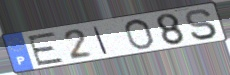2: (62, 28, 95, 61)
8: (155, 13, 186, 46)
E: (26, 30, 66, 67)
I: (91, 25, 110, 55)
O: (123, 17, 156, 51)
S: (184, 8, 220, 42)
